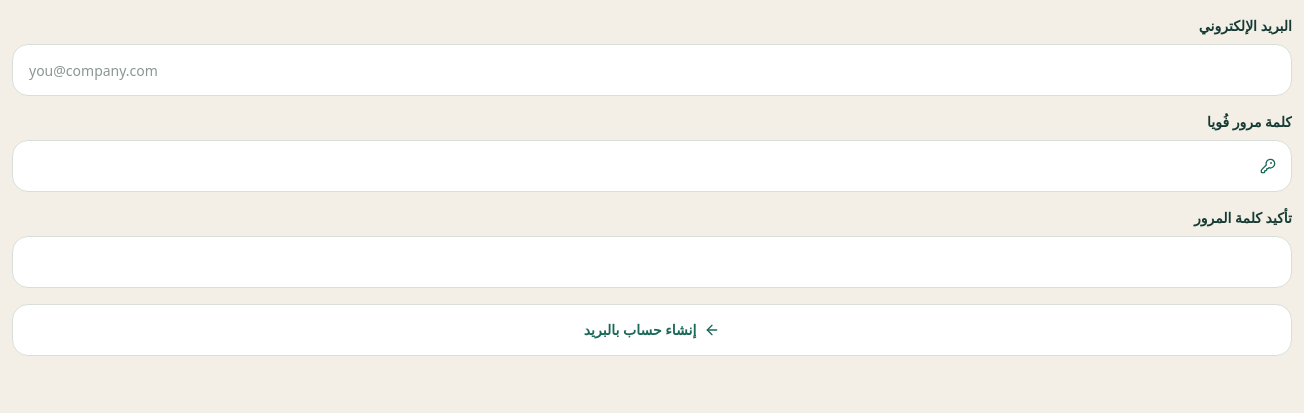
Test: PasswordSignUpForm › maps action exceptions to a retry state
In the field labelled "البريد الإلكتروني": (652,70) [12,44,1292,96], type "operator@example.com"
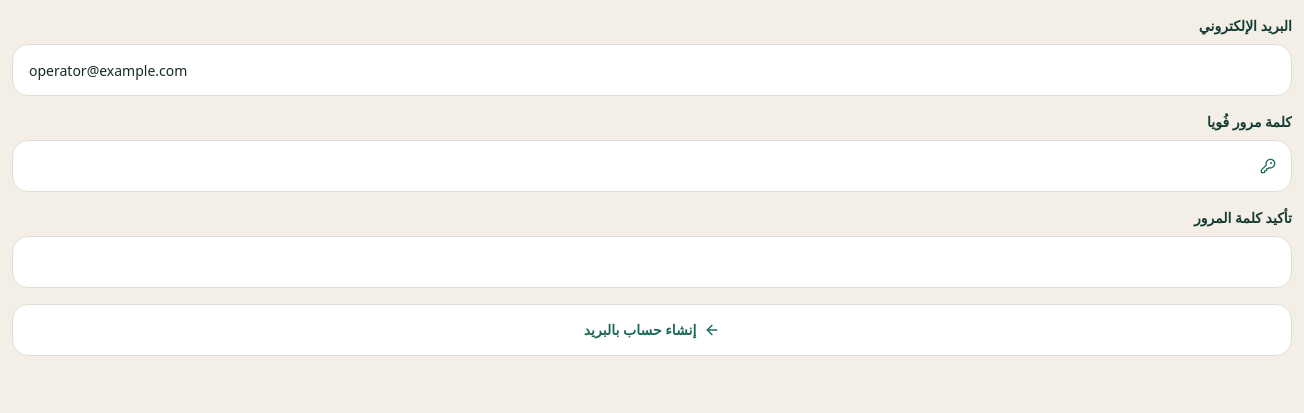
In the password field labelled "كلمة مرور فُويا": (652,166) [12,140,1292,192], type "safe-password"
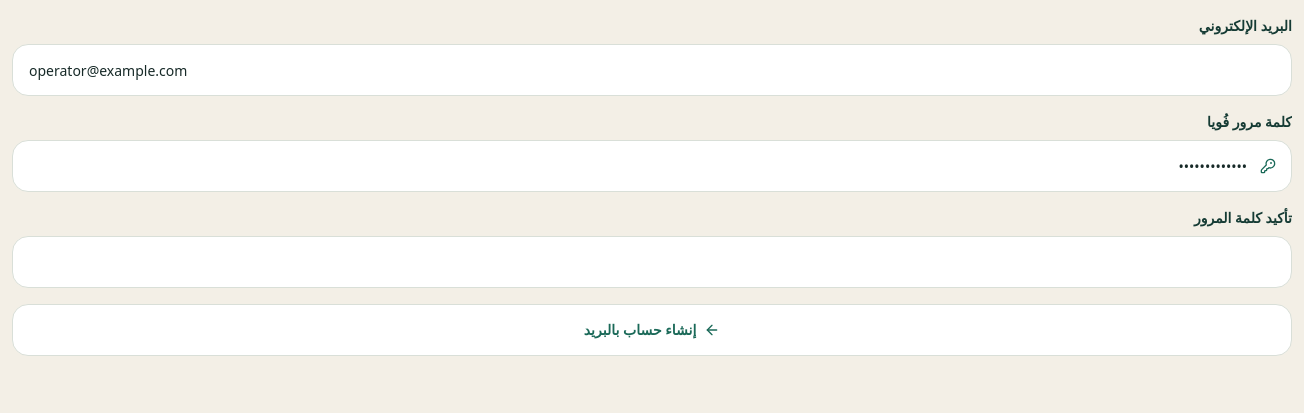
In the password field labelled "تأكيد كلمة المرور": (652,262) [12,236,1292,288], type "safe-password"
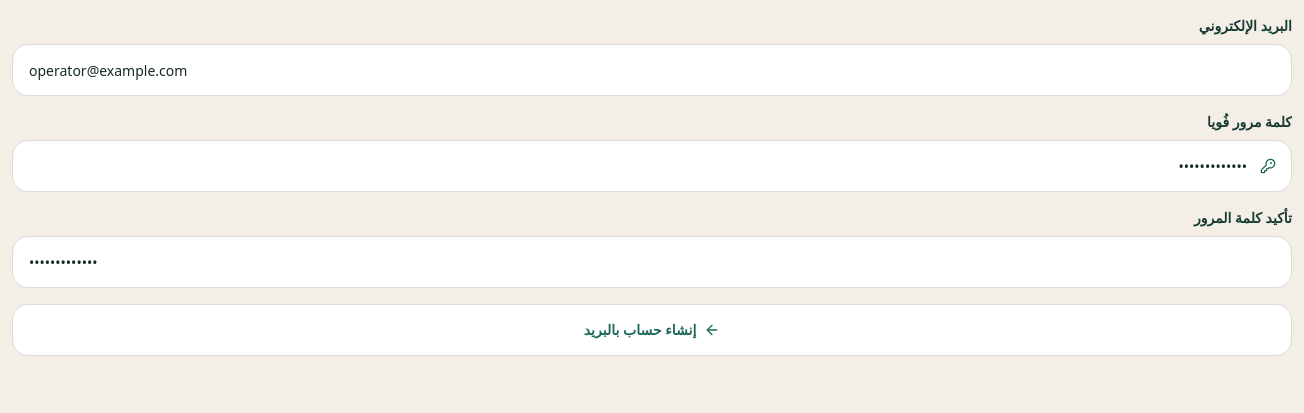
Submit the form "إنشاء حساب بالبريد"
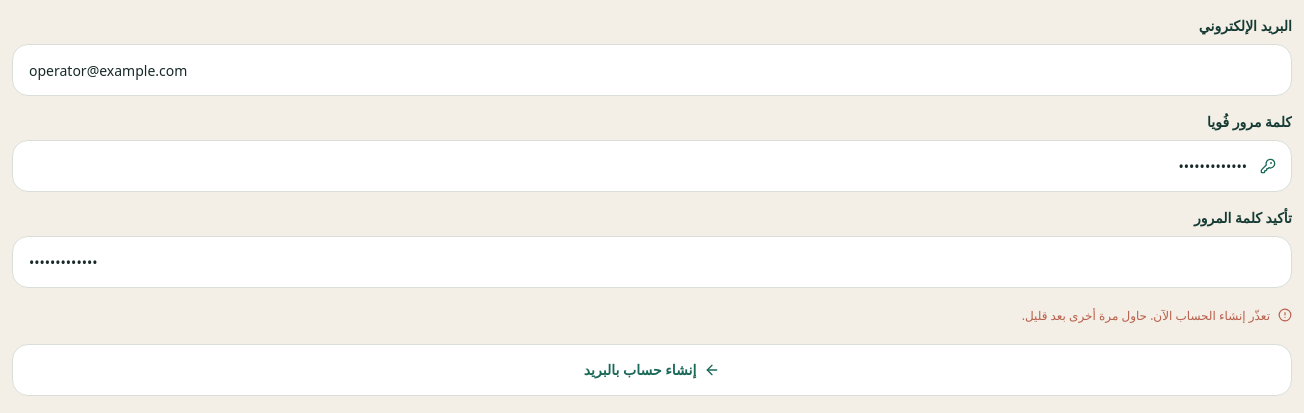
Now the text "تعذّر إنشاء الحساب الآن. حاول مرة أخرى بعد قليل." is shown, box [1022,307,1292,324]
